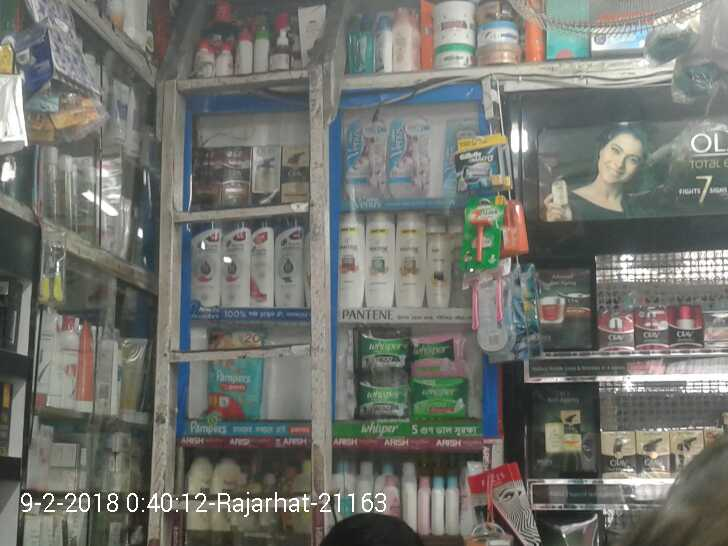gillete: (456, 133, 510, 194)
venus: (469, 263, 509, 359), (389, 119, 433, 198), (347, 119, 389, 198)
